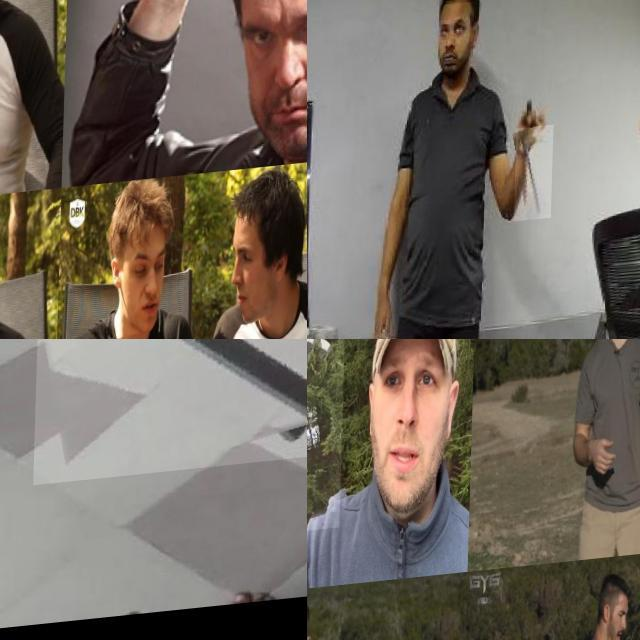-: (36, 339, 307, 492), (307, 339, 380, 542), (73, 0, 216, 46), (516, 131, 555, 227), (0, 135, 21, 219)
